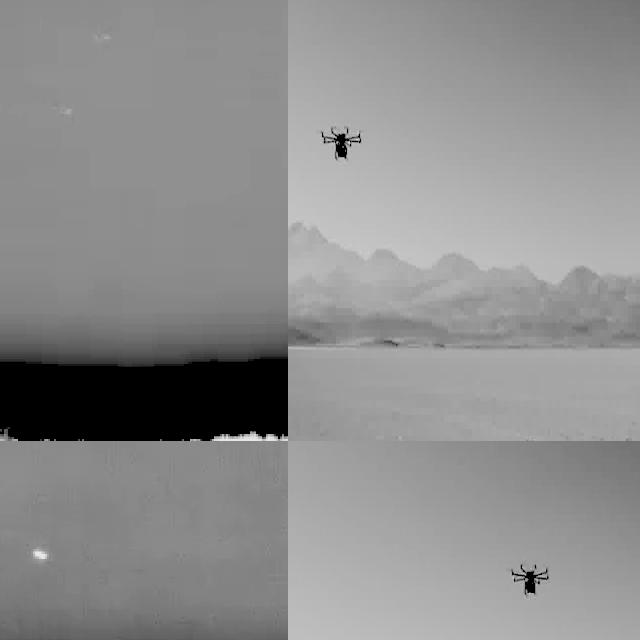0: (51, 101, 79, 129), (91, 29, 115, 51)
1: (20, 543, 56, 573)
drone: (316, 118, 366, 167), (507, 554, 553, 604)
